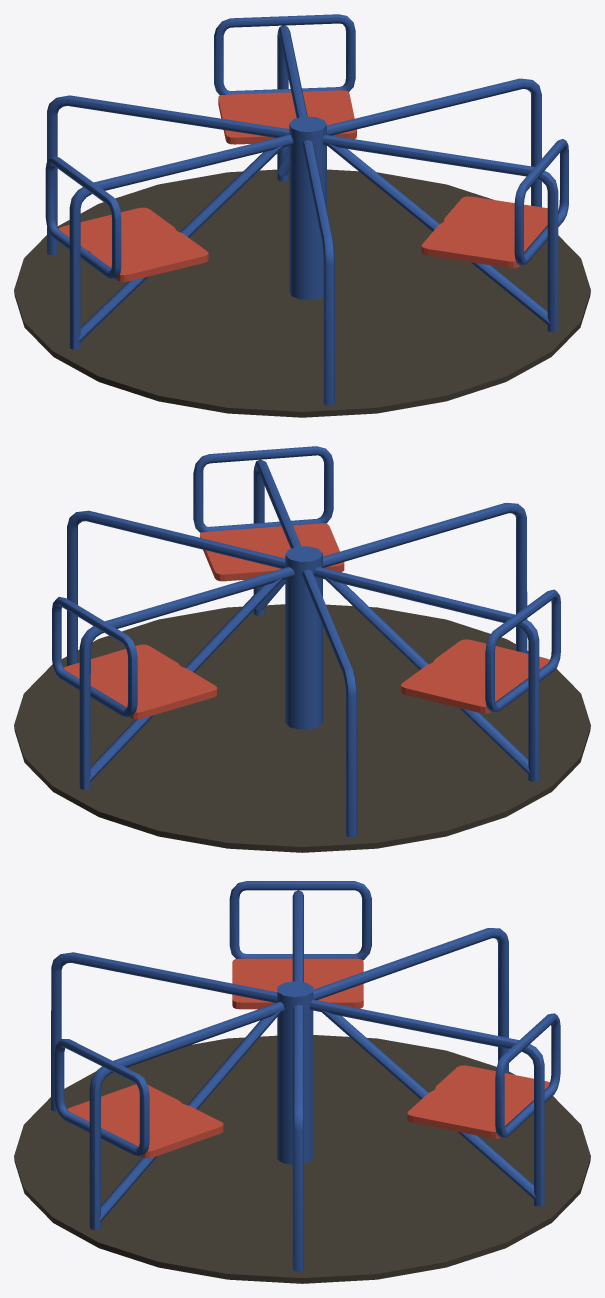
File: swing1.glb
The picture shows the model from 3 angles, top to bottom: view 1: azimuth 30°, elevation 25°; view 2: azimuth 150°, elevation 25°; view 3: azimuth 270°, elevation 25°; orthographic projection.
Parts seen in each view (by area): view 1: SM_Swings_02; view 2: SM_Swings_02; view 3: SM_Swings_02.
Boxes of the visible parts, x1,y1,x2,y2 form: SM_Swings_02: [14, 14, 590, 417]; SM_Swings_02: [14, 446, 590, 852]; SM_Swings_02: [14, 881, 590, 1283].
Size of the model in its own units: 2.47 by 0.9728 by 2.47.
1 material, 1 textured.
